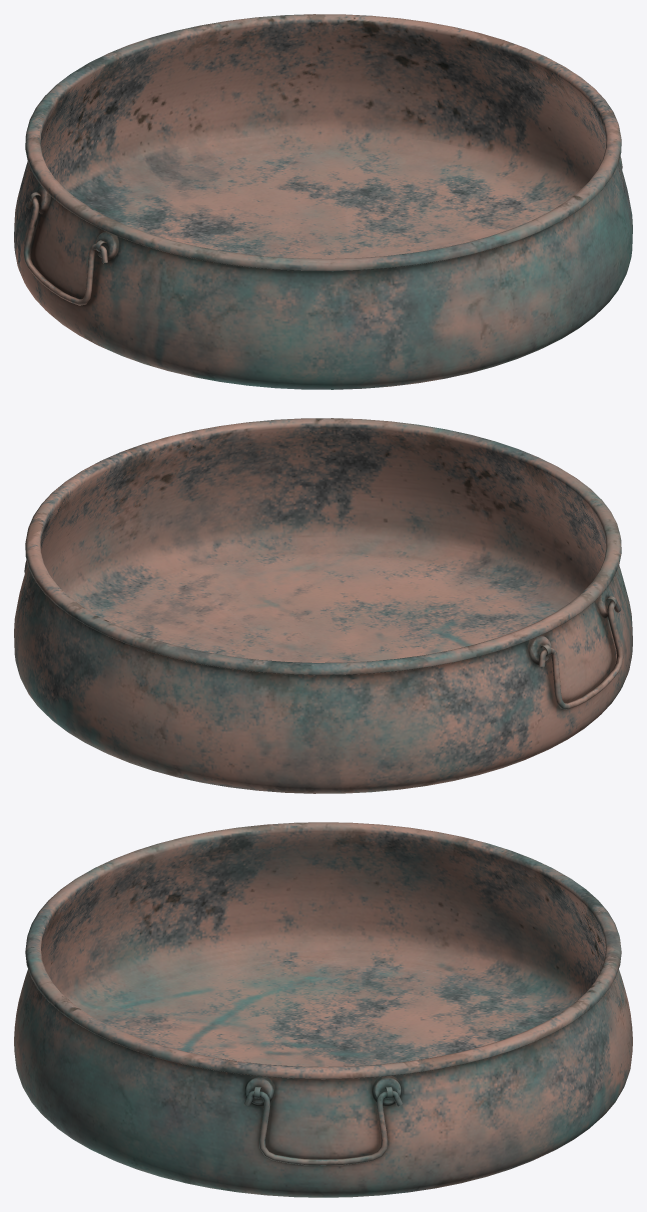
The model's file is SM_Pot154.fbx.
The picture shows the model from 3 angles, top to bottom: view 1: azimuth 30°, elevation 25°; view 2: azimuth 150°, elevation 25°; view 3: azimuth 270°, elevation 25°; orthographic projection.
Visible parts, largest first — view 1: SM_Pot154; view 2: SM_Pot154; view 3: SM_Pot154.
Boxes of the visible parts, x1,y1,x2,y2 form: SM_Pot154: (14, 14, 632, 389); SM_Pot154: (14, 418, 632, 793); SM_Pot154: (14, 822, 632, 1197).
Size of the model in its own units: 44.12 by 10.28 by 43.4.
Materials: 1 (1 with a texture image).
